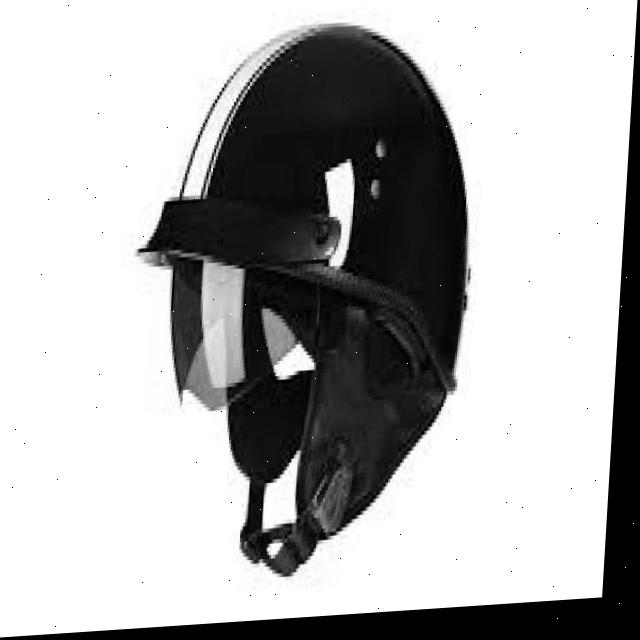Helmet: (120, 12, 487, 577)
